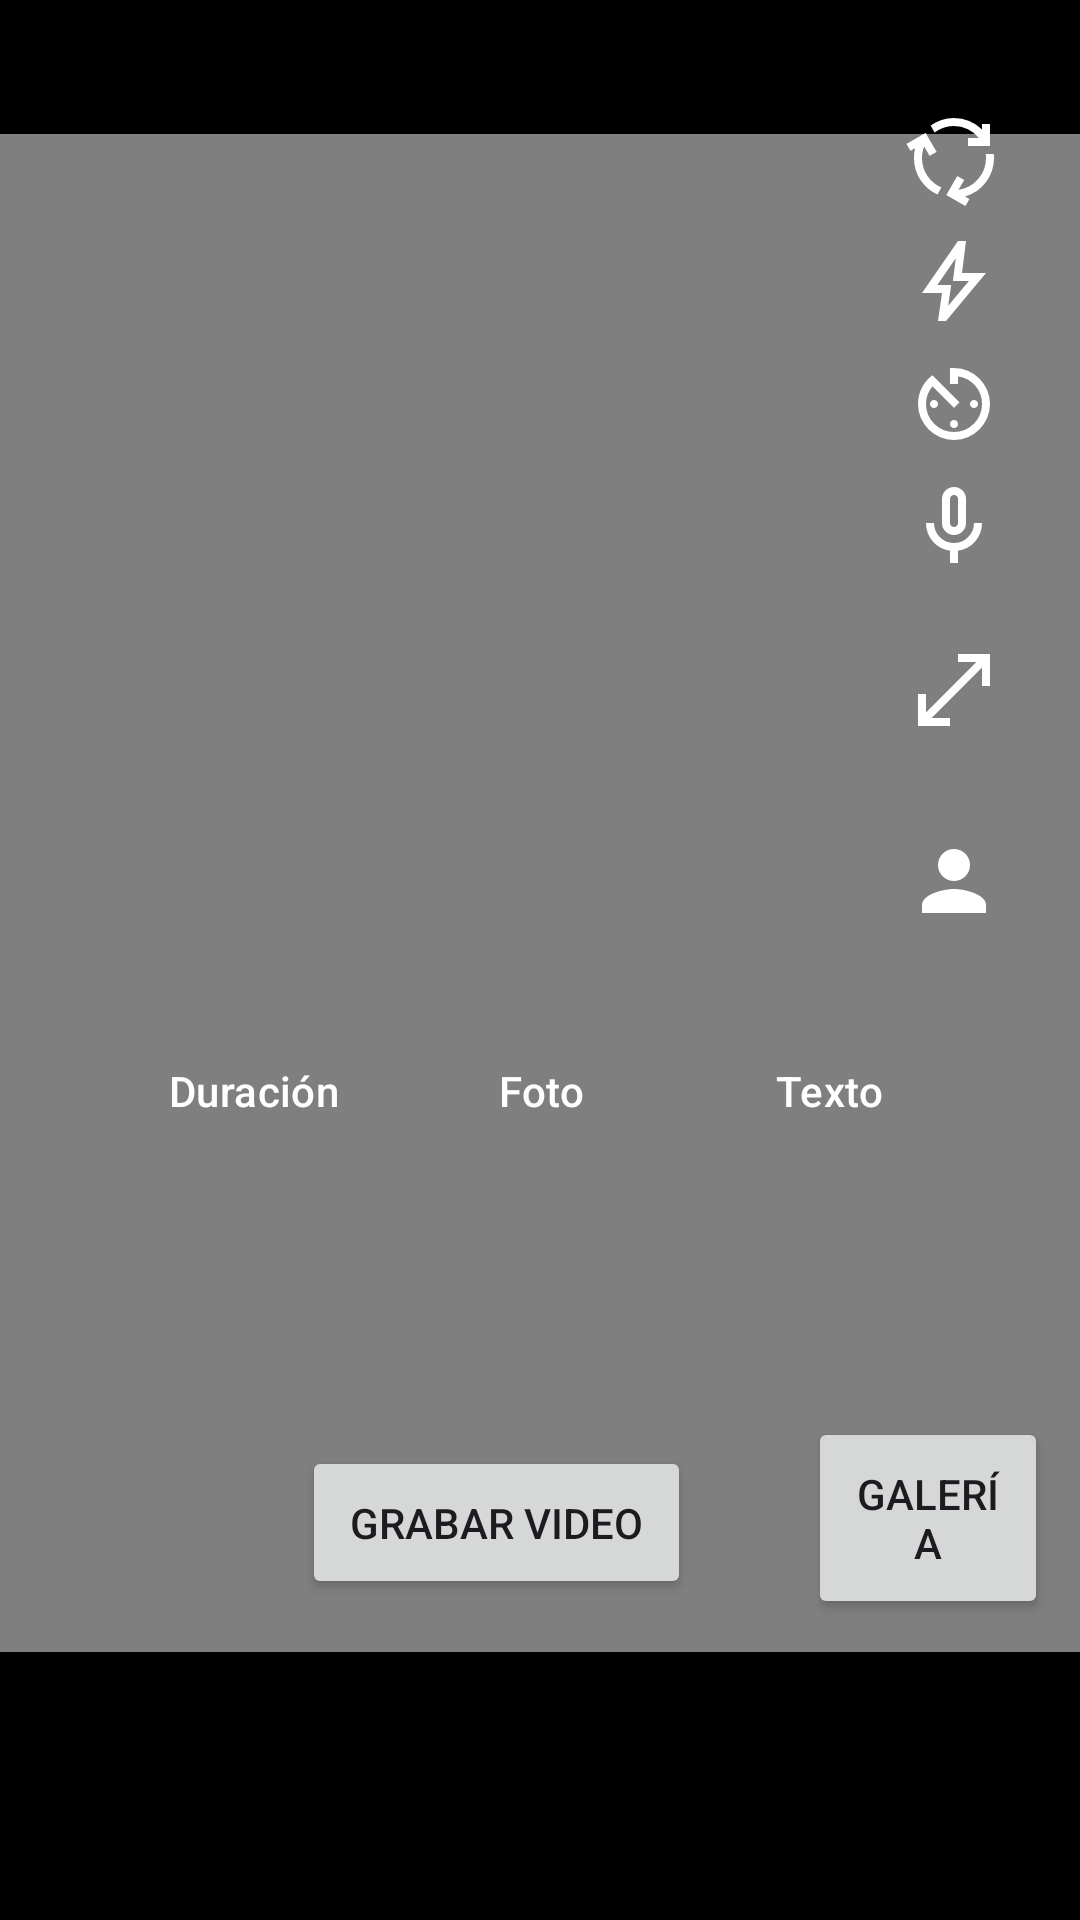

Where to tap for icons on this 1080px x 1920px app screen, as (x=x, y=y):
av timer: (x=954, y=404)
bolt: (x=954, y=281)
mic: (x=954, y=525)
open in full: (x=954, y=690)
person: (x=954, y=881)
